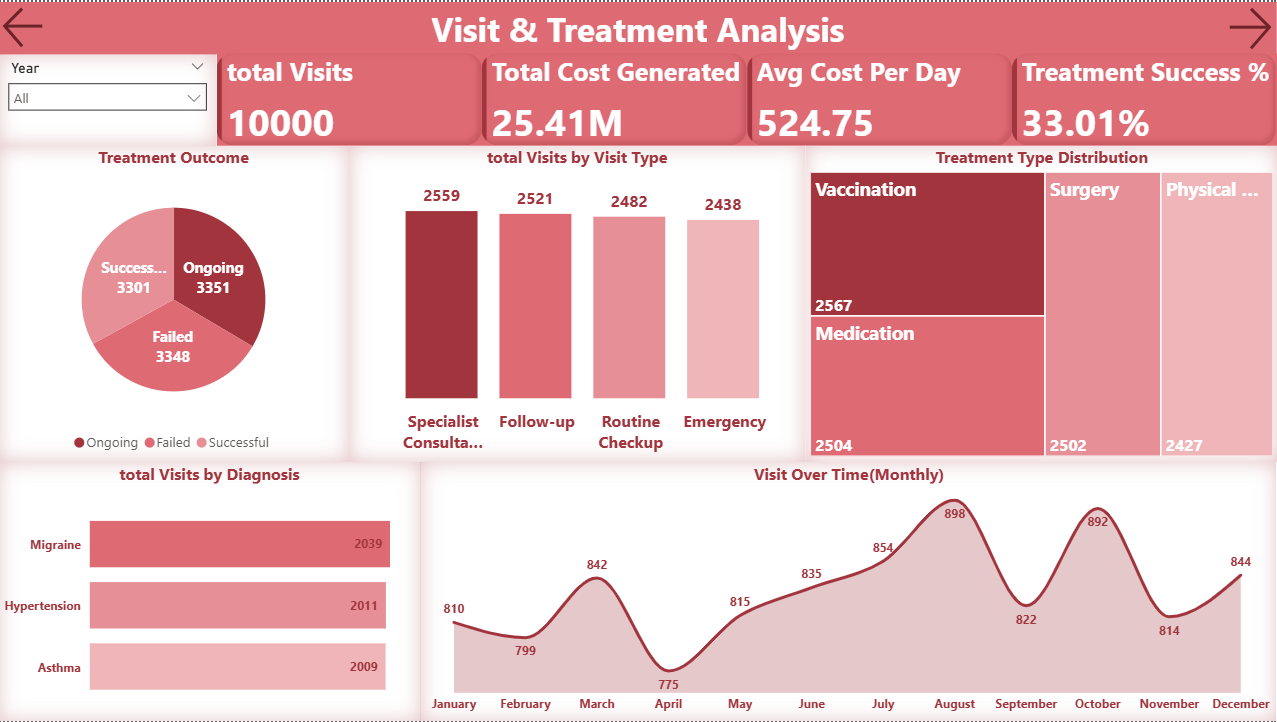

This screenshot's page, from the dashboard's own definition file:
{"tool":"powerbi","page":{"name":"Visit & Treatment Analysis","canvas":[1280,720],"ordinal":1},"visuals":[{"type":"shape","box":[0,0,1279.7,52.7],"z":0},{"type":"cardVisual","fields":{"Data":["Visit.total Visits","Treatments.Total Cost Generated","Treatments.Avg Treatment Cost per Visits","Treatments.Treatment Success %"]},"box":[218.6,51.4,1061.4,92.9],"z":1000},{"type":"pieChart","title":"Treatment Outcome","fields":{"Category":["Treatments.Outcome"],"Y":["CountNonNull(Treatments.Visit ID)"]},"box":[0,144.3,351.4,315.7],"z":2000},{"type":"slicer","fields":{"Values":["Visit.Visit Date.Variation.Date Hierarchy.Year"]},"box":[0,52.9,218.6,91.4],"z":3000},{"type":"treemap","title":"Treatment Type Distribution","fields":{"Group":["Treatments.Treatment Type"],"Values":["CountNonNull(Treatments.Visit ID)"]},"box":[807.1,144.3,472.9,315.7],"z":4000},{"type":"clusteredColumnChart","fields":{"Category":["Visit.Visit Type"],"Y":["Visit.total Visits"]},"box":[351.4,144.3,455.7,315.7],"z":5000},{"type":"clusteredBarChart","fields":{"Category":["Visit.Diagnosis"],"Y":["Visit.total Visits"]},"box":[0,460,422.9,260],"z":6000},{"type":"lineChart","title":"Visit Over Time(Monthly)","fields":{"Y":["Visit.total Visits"],"Category":["Visit.Visit Date.Variation.Date Hierarchy.Month"]},"box":[422.9,460,857.1,260],"z":7000},{"type":"actionButton","box":[0,0,54.4,50.9],"z":8000},{"type":"actionButton","box":[1224.9,0,55.5,53.2],"z":9000}]}

Visuals, with their boxes in screenshot pixels (x1, y1, x2, y2), scaled from the page's 1280x720 canvas onto the 1277x722 screenshot:
shape: region(0, 0, 1276, 53)
cardVisual - Visit.total Visits x Treatments.Total Cost Generated: region(218, 52, 1276, 145)
"Treatment Outcome" pieChart: region(0, 145, 351, 461)
slicer - Visit.Visit Date.Variation.Date Hierarchy.Year: region(0, 53, 218, 145)
"Treatment Type Distribution" treemap: region(805, 145, 1276, 461)
clusteredColumnChart - Visit.Visit Type x Visit.total Visits: region(351, 145, 805, 461)
clusteredBarChart - Visit.Diagnosis x Visit.total Visits: region(0, 461, 422, 721)
"Visit Over Time(Monthly)" lineChart: region(422, 461, 1276, 721)
actionButton: region(0, 0, 54, 51)
actionButton: region(1222, 0, 1276, 53)
